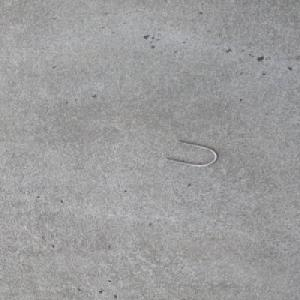ClampPart: (164, 140, 219, 167)
